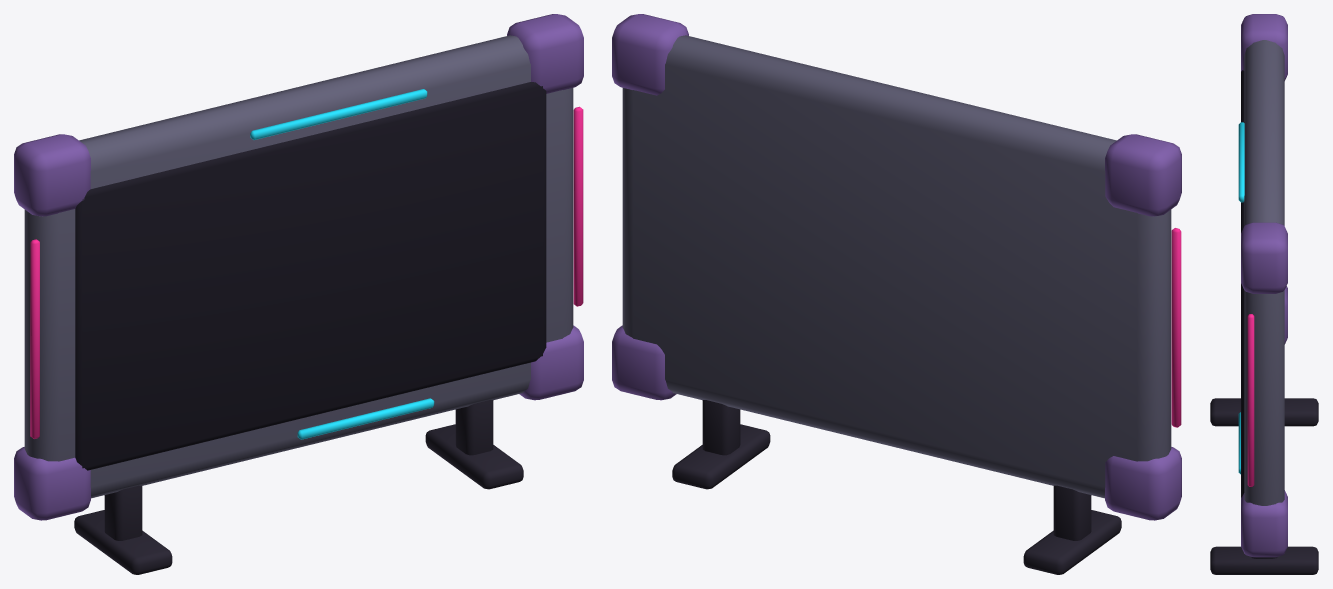
The model's file is Arena_LEDScreen.fbx.
3 views of the same model, side by side, from view 1: azimuth 30°, elevation 25°; view 2: azimuth 150°, elevation 25°; view 3: azimuth 270°, elevation 25° (orthographic). The views are drawn at different scales.
Parts seen in each view (by area): view 1: Cone, Metal, Purple, Dark, Neon_Magenta, Neon_Cyan; view 2: Metal, Purple, Dark, Neon_Magenta; view 3: Metal, Purple, Dark, Neon_Magenta, Cone, Neon_Cyan.
Boxes of the visible parts, x1,y1,x2,y2 form: Cone: (75,82,546,470); Metal: (24,35,573,498); Purple: (14,14,583,520); Dark: (74,400,523,574); Neon_Magenta: (30,106,583,438); Neon_Cyan: (250,89,434,439); Metal: (622,35,1171,498); Purple: (612,14,1181,520); Dark: (672,400,1121,574); Neon_Magenta: (1171,228,1181,427); Metal: (1244,40,1284,505); Purple: (1241,14,1287,557); Dark: (1210,398,1318,574); Neon_Magenta: (1247,314,1254,486); Cone: (1241,70,1244,497); Neon_Cyan: (1238,122,1244,474).
Size of the model in its own units: 24.6 by 18.02 by 4.8.
